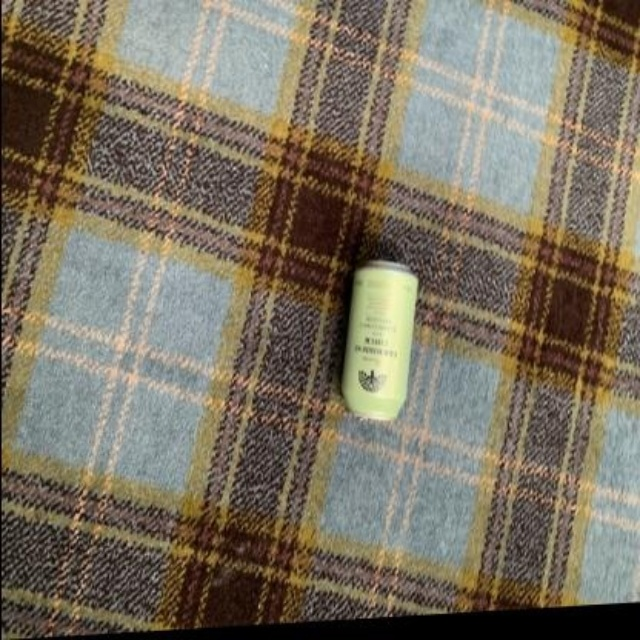trash: (342, 260, 417, 418)
